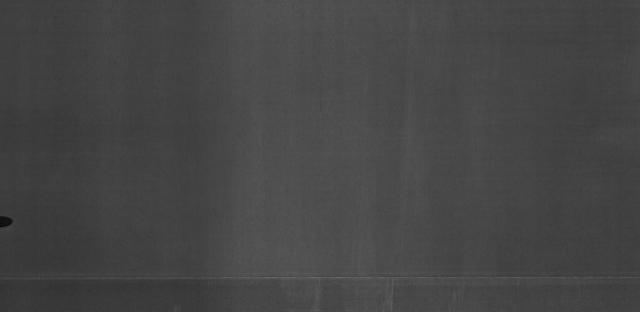punching_hole: (0, 216, 16, 232)
welding_line: (1, 264, 640, 286)
